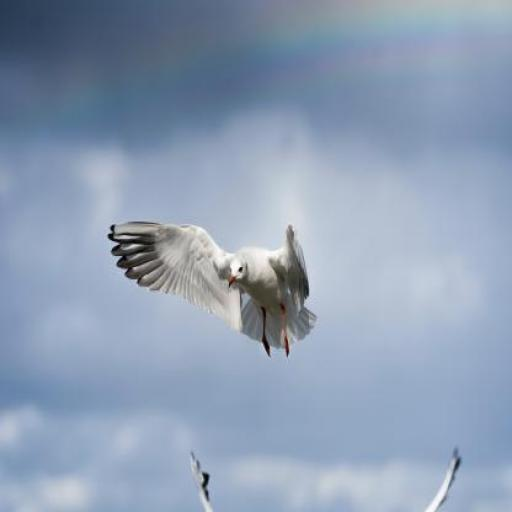bird: (109, 220, 316, 359)
